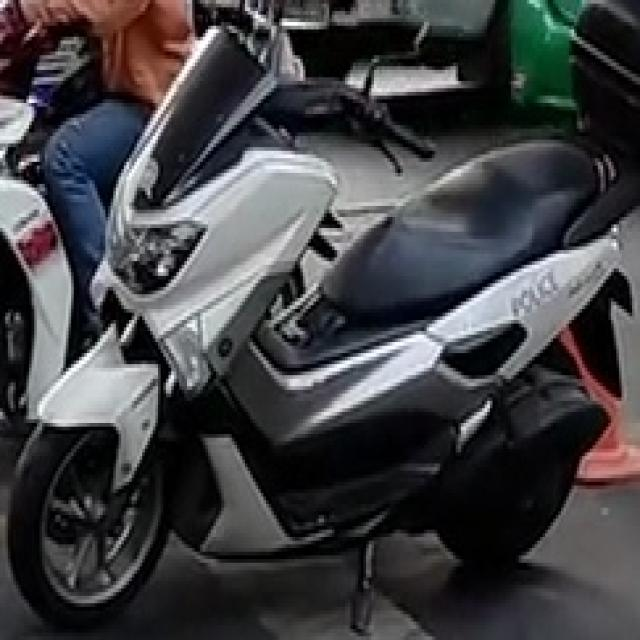door: (5, 0, 638, 633)
tyre: (5, 416, 171, 629)
